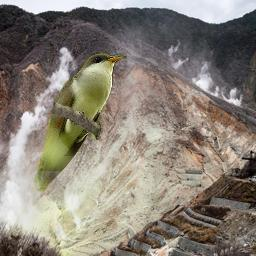Cuckoo: (32, 52, 127, 192)
